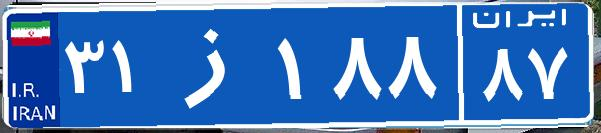1: (273, 28, 330, 110), (110, 28, 158, 105)
3: (57, 26, 110, 107)
7: (525, 38, 570, 115)
8: (385, 28, 445, 110), (330, 28, 385, 110), (475, 38, 525, 113)
ز: (158, 15, 273, 115)
